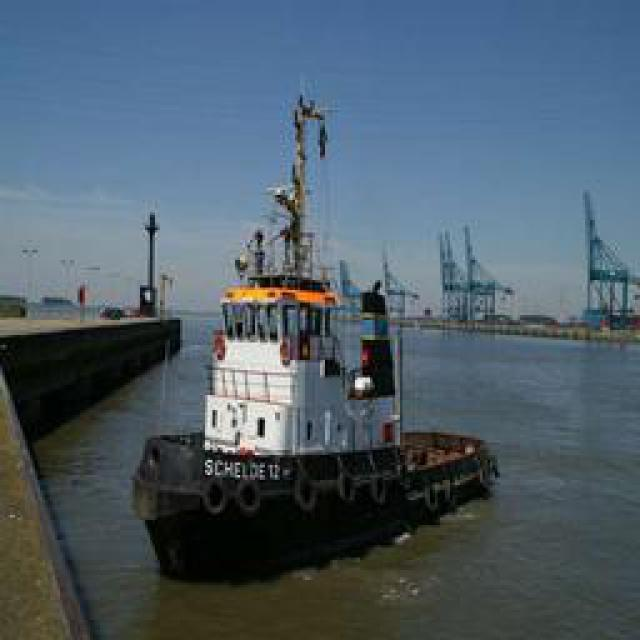Ship: (134, 80, 494, 578)
